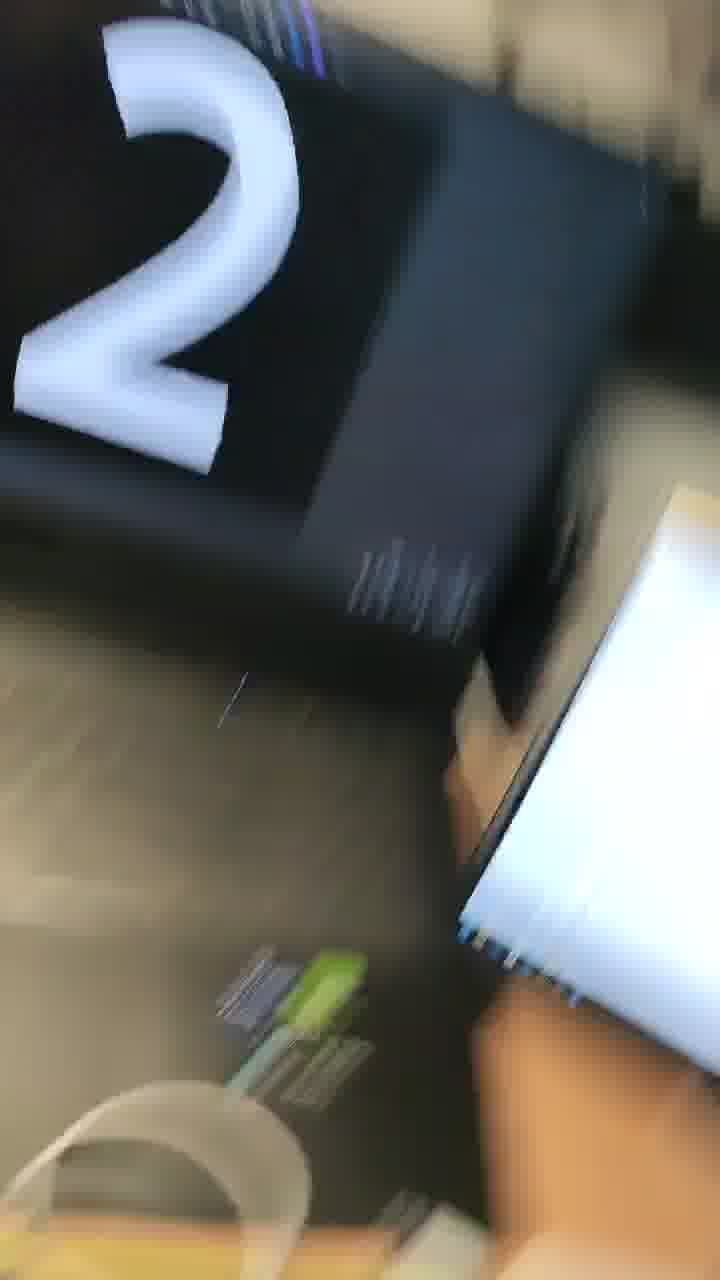two: (7, 1, 346, 512)
